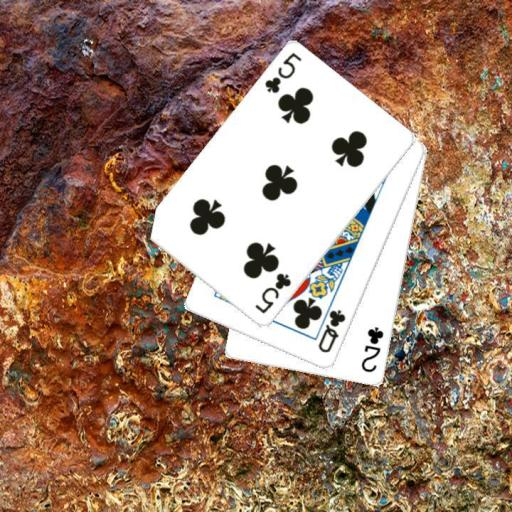2C: (359, 324, 386, 375)
5C: (261, 50, 303, 95), (252, 270, 293, 316)
QC: (315, 306, 348, 355)
